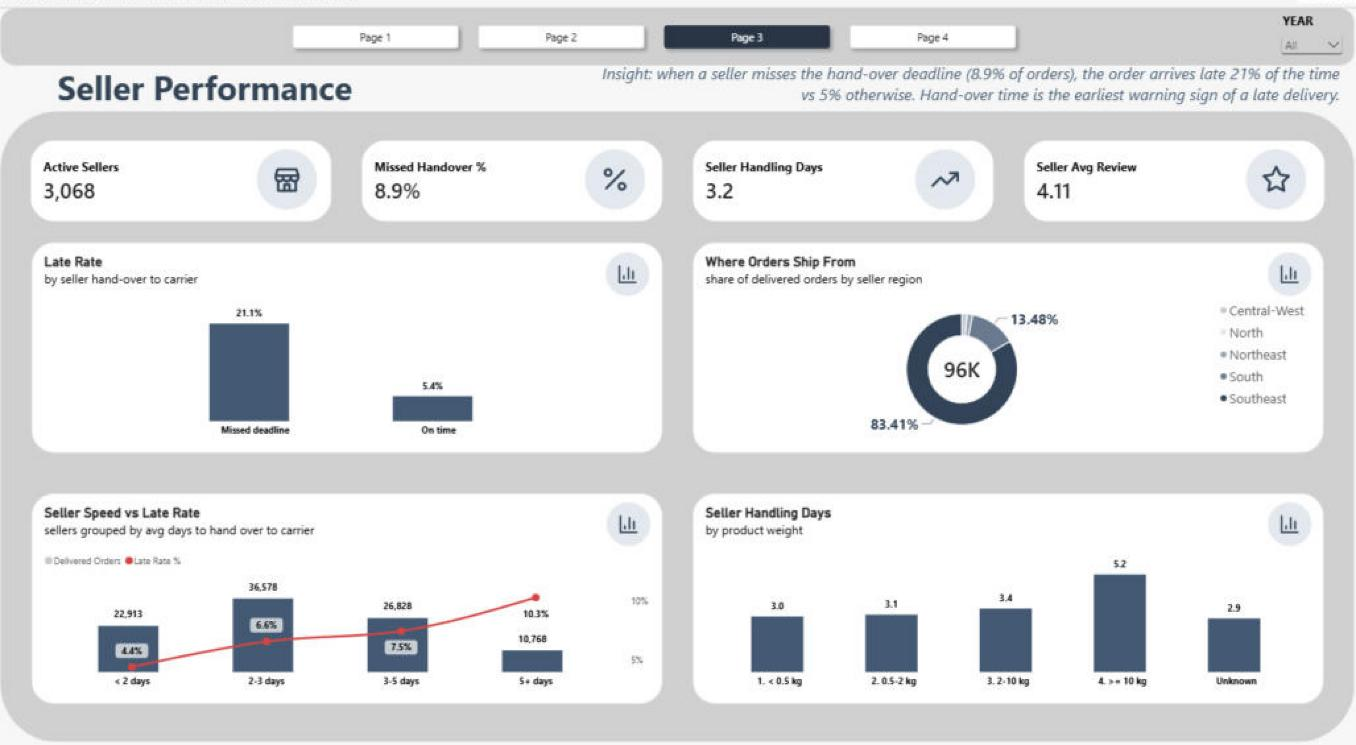

The dashboard page shown, as its layout file describes it:
{"tool":"powerbi","page":{"name":"Page 3","canvas":[1920,1080],"ordinal":2},"visuals":[{"type":"shape","box":[59.8,43.8,1800.4,75.9],"z":0},{"type":"shape","box":[59.8,180.9,1800.4,838.9],"z":0,"group":"g1"},{"type":"textbox","title":"Seller Performance","box":[135.6,119.4,978.4,61.9],"z":1000},{"type":"group","id":"g1","title":"Group 1","box":[59.8,180.9,1800.4,838.9],"z":2000},{"type":"cardVisual","fields":{"Data":["fact_order_items.Active Sellers Display"]},"box":[100,219.6,400,108.9],"z":3000,"group":"g1"},{"type":"image","box":[813.7,231.8,125.5,80.2],"z":3000},{"type":"slicer","fields":{"Values":["Calendar.Year"]},"box":[1757.1,49.9,93.1,63.2],"z":4000},{"type":"cardVisual","fields":{"Data":["fact_order_items.Missed Handover %"]},"box":[540,219,400,108.9],"z":4000,"group":"g1"},{"type":"cardVisual","fields":{"Data":["fact_order_items.Seller Handling Days"]},"box":[980,219,400,108.9],"z":5000,"group":"g1"},{"type":"image","box":[848.7,368.4,90,57.6],"z":5000},{"type":"cardVisual","fields":{"Data":["fact_order_items.Seller Avg Review"]},"box":[1420,219,400,108.9],"z":6000,"group":"g1"},{"type":"image","box":[1728.4,368.4,90,57.6],"z":6000},{"type":"columnChart","title":"Late Rate","fields":{"Category":["fact_order_items.Handover Status"],"Y":["fact_order_items.Seller Late Rate %"]},"box":[100.7,355.7,838.9,279.8],"z":7000,"group":"g1"},{"type":"image","box":[1729.6,701,90,57.6],"z":7000},{"type":"donutChart","title":"Where Orders Ship From","fields":{"Category":["dim_seller.seller_region"],"Y":["fact_order_items.Seller Orders"]},"box":[980.4,355.7,838.9,279.8],"z":8000,"group":"g1"},{"type":"image","box":[850.1,701,90,57.6],"z":8000},{"type":"image","box":[377.2,231.8,125.5,80.2],"z":9000},{"type":"lineClusteredColumnComboChart","title":"Seller Speed vs Late Rate","fields":{"Category":["dim_seller.Speed Band"],"Y":["fact_order_items.Seller Orders"],"Y2":["fact_order_items.Seller Late Rate %"]},"box":[100.7,689.5,838.9,279.8],"z":9000,"group":"g1"},{"type":"pageNavigator","box":[439.1,56.9,980.4,49.6],"z":10000},{"type":"columnChart","title":"Seller Handling Days","fields":{"Category":["dim_product.weight_class"],"Y":["fact_order_items.Seller Handling Days"]},"box":[980.4,689.5,838.9,279.8],"z":10000,"group":"g1"},{"type":"image","box":[1693.3,231.8,125.5,80.2],"z":11000},{"type":"image","box":[1253.5,231.8,125.5,80.2],"z":12000},{"type":"textbox","title":"Insight: when a seller misses the hand-over deadline (8.9% of orders), the order arrives late 21% of the time vs 5% otherwise. Hand-over time is the earliest warning sign of a late delivery.","box":[840,116,1000,64],"z":14000}]}

Visuals, with their boxes in screenshot pixels (x1, y1, x2, y2), scaled from the page's 1920x1080 canvas onto the 1356x745 screenshot:
shape: (42,30,1314,83)
shape: (42,125,1314,703)
"Seller Performance" textbox: (96,82,787,125)
"Group 1" group: (42,125,1314,703)
cardVisual - fact_order_items.Active Sellers Display: (71,151,353,227)
image: (575,160,663,215)
slicer - Calendar.Year: (1241,34,1307,78)
cardVisual - fact_order_items.Missed Handover %: (381,151,664,226)
cardVisual - fact_order_items.Seller Handling Days: (692,151,975,226)
image: (599,254,663,294)
cardVisual - fact_order_items.Seller Avg Review: (1003,151,1285,226)
image: (1221,254,1284,294)
"Late Rate" columnChart: (71,245,664,438)
image: (1222,484,1285,523)
"Where Orders Ship From" donutChart: (692,245,1285,438)
image: (600,484,664,523)
image: (266,160,355,215)
"Seller Speed vs Late Rate" lineClusteredColumnComboChart: (71,476,664,669)
pageNavigator: (310,39,1003,73)
"Seller Handling Days" columnChart: (692,476,1285,669)
image: (1196,160,1285,215)
image: (885,160,974,215)
"Insight: when a seller misses the hand-over deadline (8.9% of orders), the order arrives late 21% of the time vs 5% otherwise. Hand-over time is the earliest warning sign of a late delivery." textbox: (593,80,1300,124)
